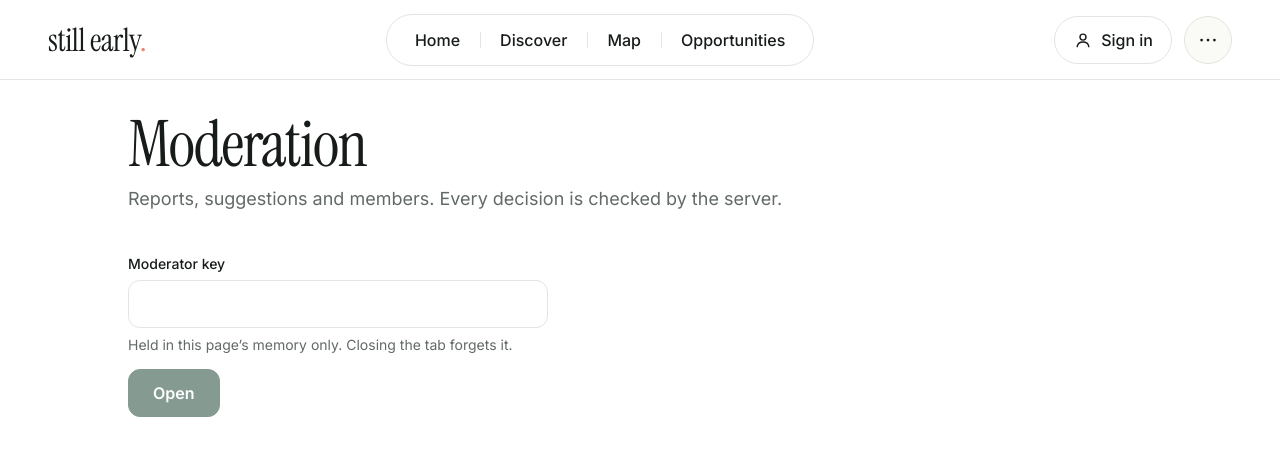
it: the moderators' page › says so when the key is wrong, and keeps the page closed
The width and height of the screenshot is (1280, 469).
Type "wrong" into the password field labelled "Moderator key" at (338, 304), box [128,280,548,328]
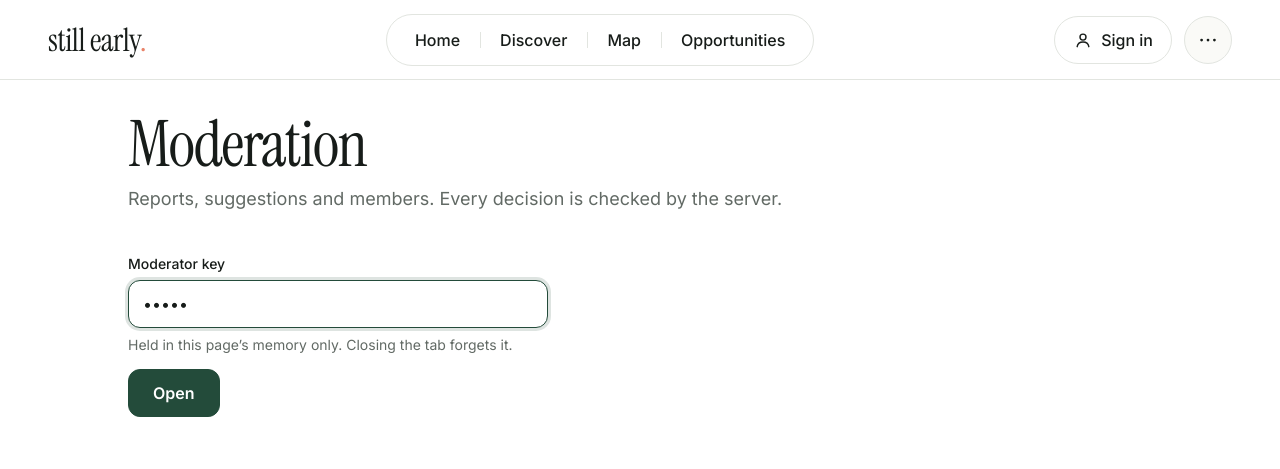
Click the button "Open" at (174, 393), box [128,369,220,417]
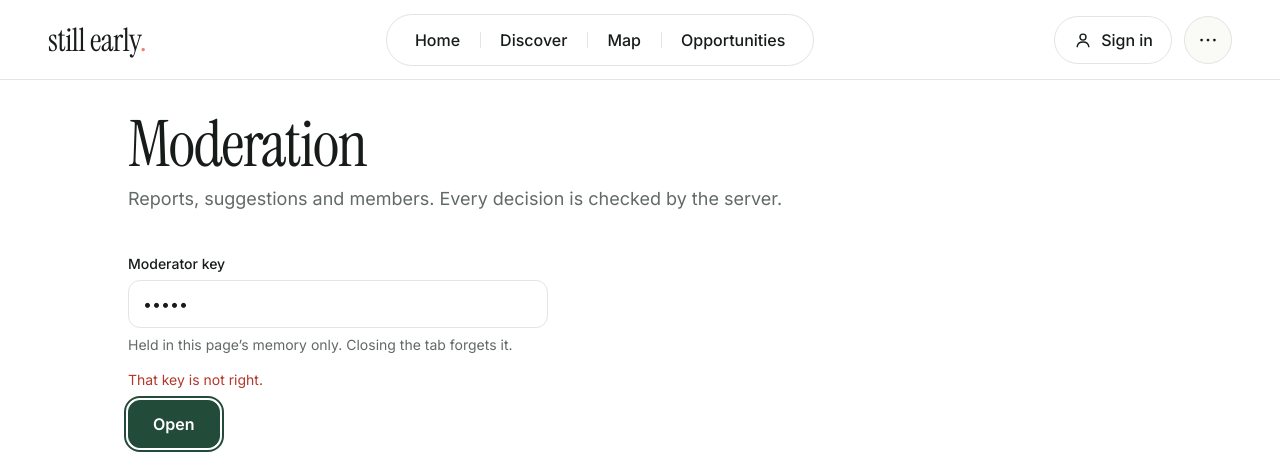
Expected: the message reads "That key is not right.", [128,371,263,388]
